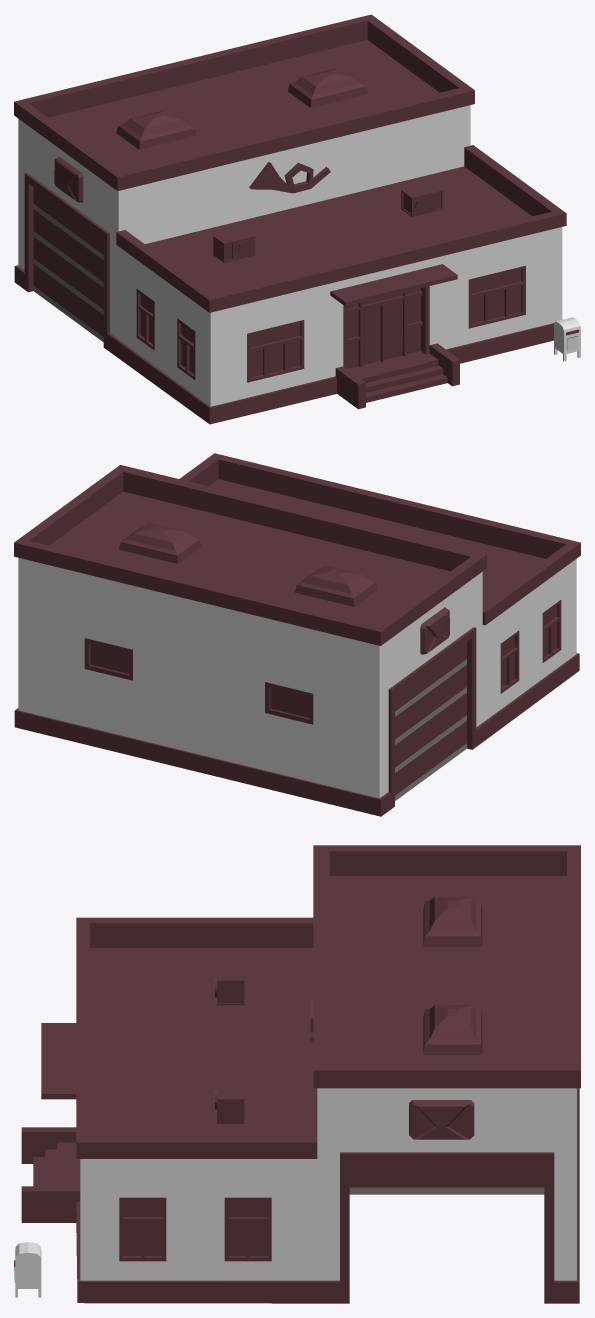
The model's file is building-post.fbx.
3 renders of one model, top to bottom at view 1: azimuth 30°, elevation 25°; view 2: azimuth 150°, elevation 25°; view 3: azimuth 270°, elevation 25°, orthographic. The views are drawn at different scales.
Visible parts, largest first — view 1: building-post; view 2: building-post; view 3: building-post.
Part boxes in pixels (box(x1,y1,x2,y2)): building-post: box(14, 14, 580, 424); building-post: box(14, 453, 580, 816); building-post: box(14, 845, 580, 1303).
Bounding box in the file's own units: 13.92 × 6.6 × 14.55.
